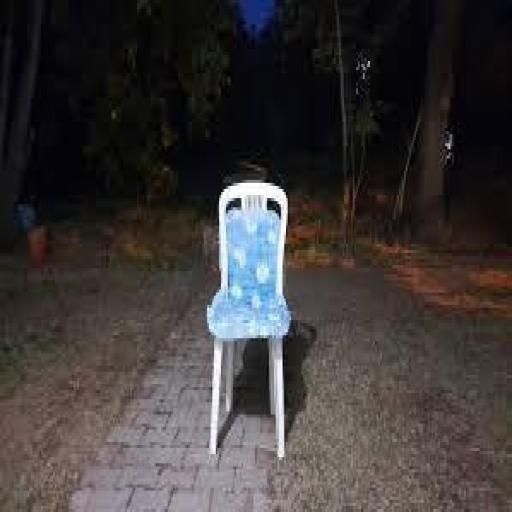chair: (204, 177, 294, 466)
